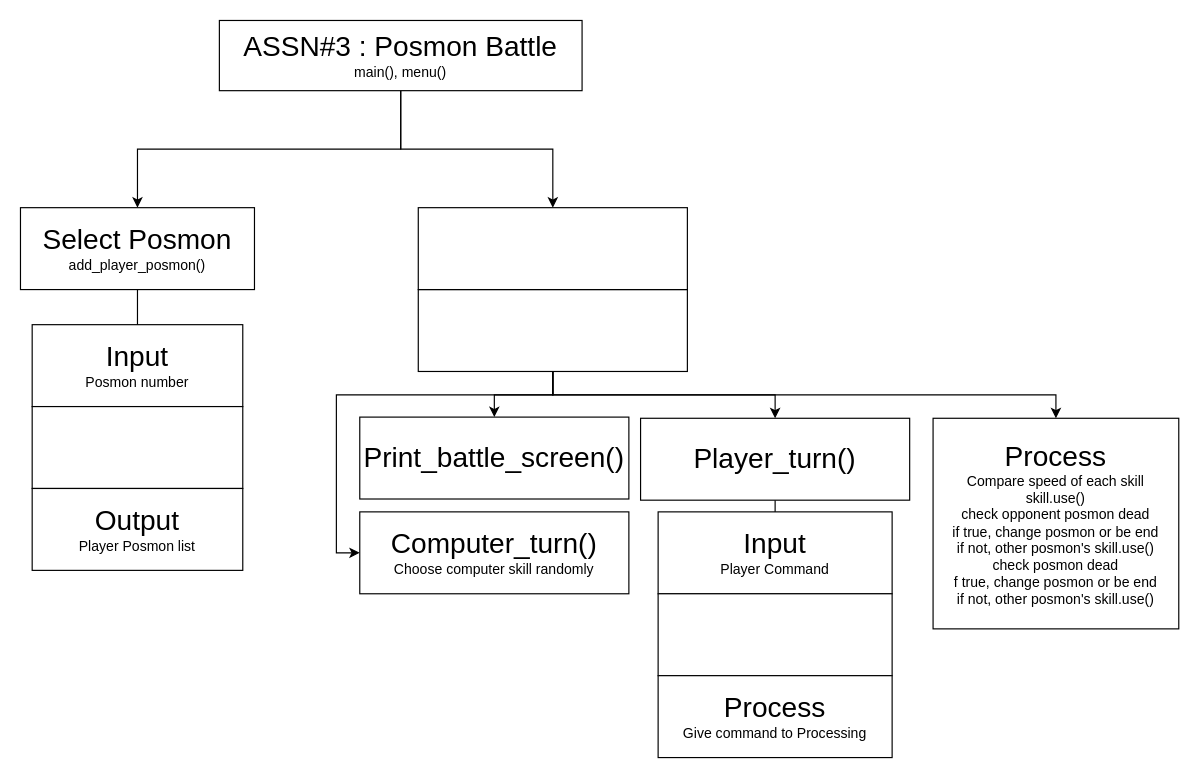
The diagram is 1199 pixels wide and 778 high, and some of its shapes have lost their labels. Each missing label, with the centre of its shape:
"Posmon Battle battle()" belongs at point (552, 329).
"Process Check command valid?" belongs at point (774, 634).
"Process Check Posmon max number, if input is '-1'" belongs at point (137, 446).
"Process List to Instance" belongs at point (552, 248).
